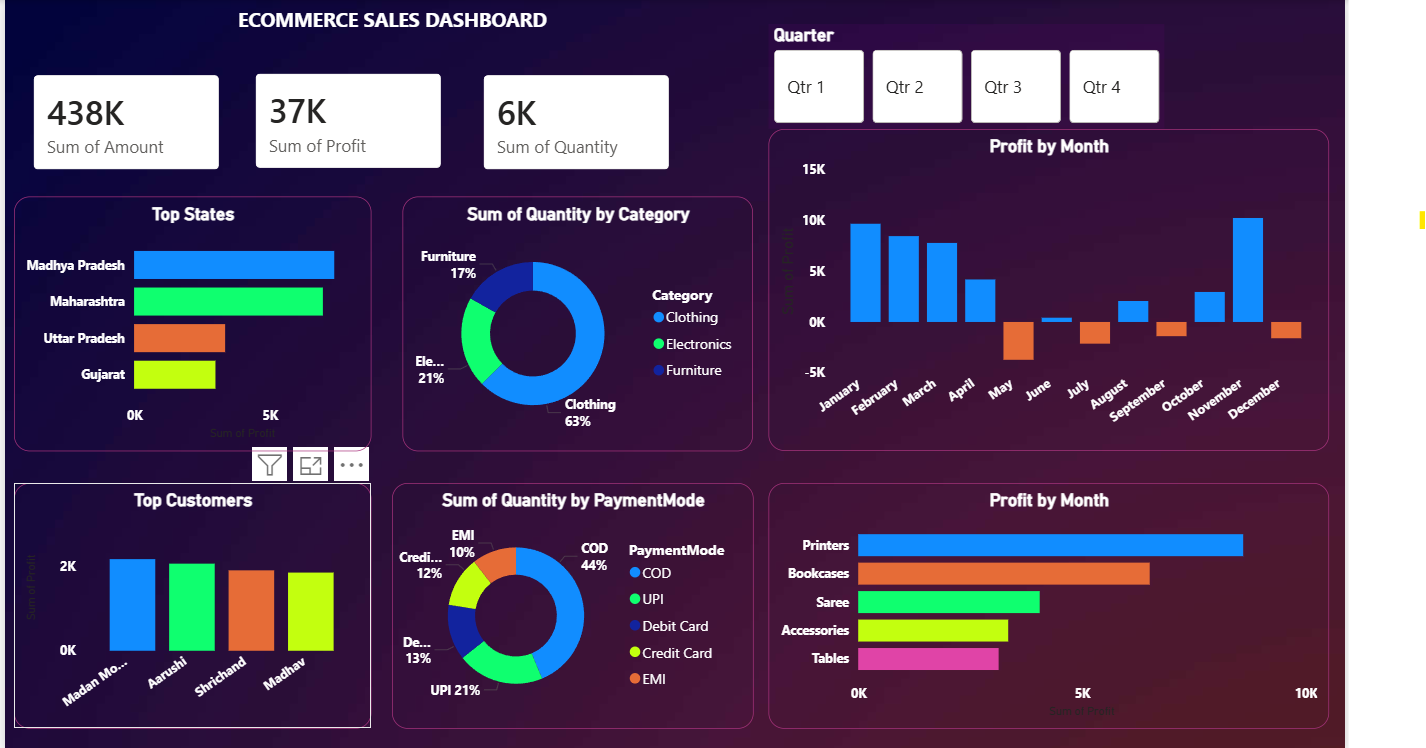

The page's visual inventory and layout, read from the dashboard file:
{"tool":"powerbi","page":{"name":"Page 1","canvas":[1280,720],"ordinal":0},"visuals":[{"type":"textbox","box":[10,0,719.7,53.3],"z":0},{"type":"columnChart","title":"Profit by Month","fields":{"Y":["Sum(Details.Profit)"],"Category":["Orders.Order Date.Variation.Date Hierarchy.Month"]},"box":[729.2,123.7,535.2,307],"z":1000},{"type":"barChart","title":"Profit by Month","fields":{"Category":["Details.Sub-Category"],"Y":["Sum(Details.Profit)"]},"box":[729.2,460.5,535.2,234.5],"z":2000},{"type":"donutChart","fields":{"Category":["Details.Category"],"Y":["Sum(Details.Quantity)"]},"box":[379.5,187.6,334.8,243.1],"z":3000},{"type":"donutChart","fields":{"Y":["Sum(Details.Quantity)"],"Category":["Details.PaymentMode"]},"box":[368.9,460.5,345.4,234.5],"z":4000},{"type":"columnChart","title":"Top Customers","fields":{"Category":["Orders.CustomerName"],"Y":["Sum(Details.Profit)"]},"box":[8.5,460.5,341.1,234.5],"z":5000},{"type":"barChart","title":"Top States","fields":{"Y":["Sum(Details.Profit)"],"Category":["Orders.State"]},"box":[8.5,187.6,341.1,243.1],"z":6000},{"type":"cardVisual","fields":{"Data":["Sum(Details.Amount)"]},"box":[10,55,211.6,124.9],"z":7000},{"type":"cardVisual","fields":{"Data":["Sum(Details.Profit)"]},"box":[221.6,53.3,211.6,124.9],"z":8000},{"type":"cardVisual","fields":{"Data":["Sum(Details.Quantity)"]},"box":[439.8,55,211.6,124.9],"z":9000},{"type":"advancedSlicerVisual","fields":{"Values":["Orders.Order Date.Variation.Date Hierarchy.Quarter"]},"box":[729.7,23.3,378.2,100],"z":10000}]}

Visuals, with their boxes on the page's 1280x720 design canvas (x1, y1, x2, y2). These are canvas units, not pixel positions in the 1426x748 screenshot, which may show the page scaled, cropped or inside an application window:
textbox: (left=10, top=0, right=730, bottom=53)
"Profit by Month" columnChart: (left=729, top=124, right=1264, bottom=431)
"Profit by Month" barChart: (left=729, top=460, right=1264, bottom=695)
donutChart - Details.Category x Sum(Details.Quantity): (left=380, top=188, right=714, bottom=431)
donutChart - Sum(Details.Quantity) x Details.PaymentMode: (left=369, top=460, right=714, bottom=695)
"Top Customers" columnChart: (left=8, top=460, right=350, bottom=695)
"Top States" barChart: (left=8, top=188, right=350, bottom=431)
cardVisual - Sum(Details.Amount): (left=10, top=55, right=222, bottom=180)
cardVisual - Sum(Details.Profit): (left=222, top=53, right=433, bottom=178)
cardVisual - Sum(Details.Quantity): (left=440, top=55, right=651, bottom=180)
advancedSlicerVisual - Orders.Order Date.Variation.Date Hierarchy.Quarter: (left=730, top=23, right=1108, bottom=123)
